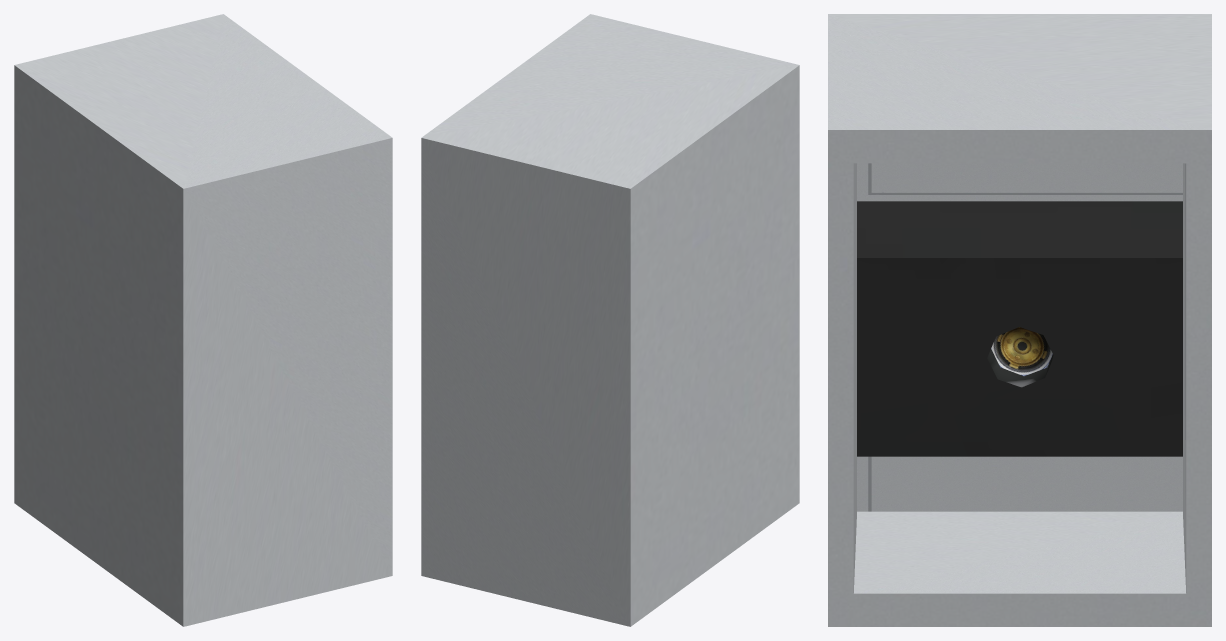
File: PnnelFuse.fbx
The picture shows the model from 3 angles, left to right: view 1: azimuth 30°, elevation 25°; view 2: azimuth 150°, elevation 25°; view 3: azimuth 270°, elevation 25°; orthographic projection. The views are drawn at different scales.
Visible parts, largest first — view 1: PannelBoxFuse; view 2: PannelBoxFuse; view 3: PannelBoxFuse.
Part boxes in pixels (x1,y1,x2,y2): PannelBoxFuse: (14,14,392,626); PannelBoxFuse: (421,14,799,626); PannelBoxFuse: (828,14,1211,626).
Bounding box in the file's own units: 100 × 200 × 140.
